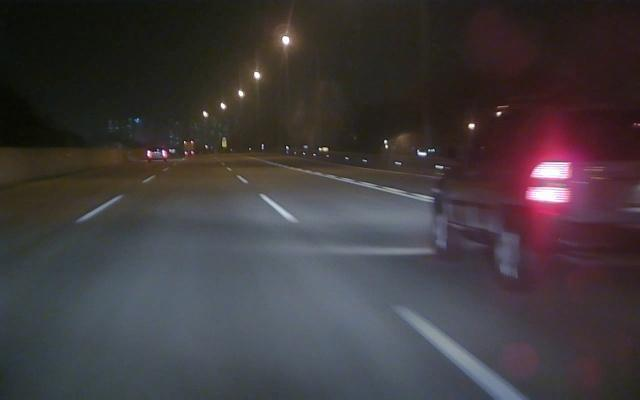lane: (236, 176, 530, 400), (277, 163, 435, 202), (78, 175, 155, 221)
